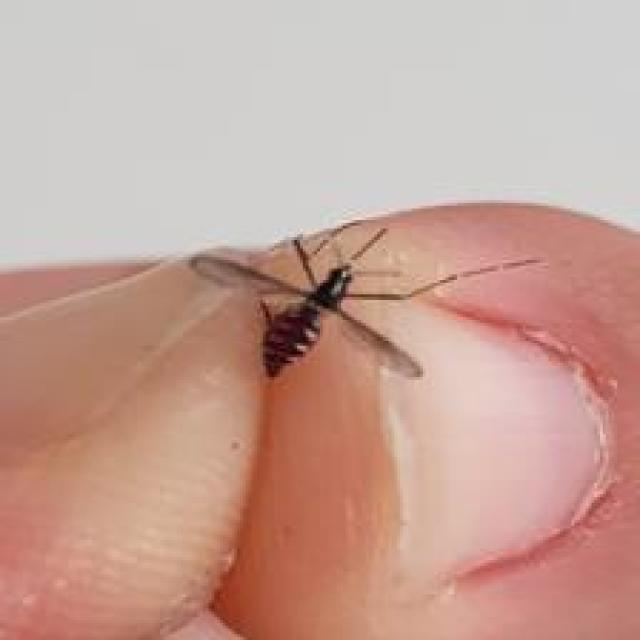Aedes albopictus: (187, 220, 544, 383)
